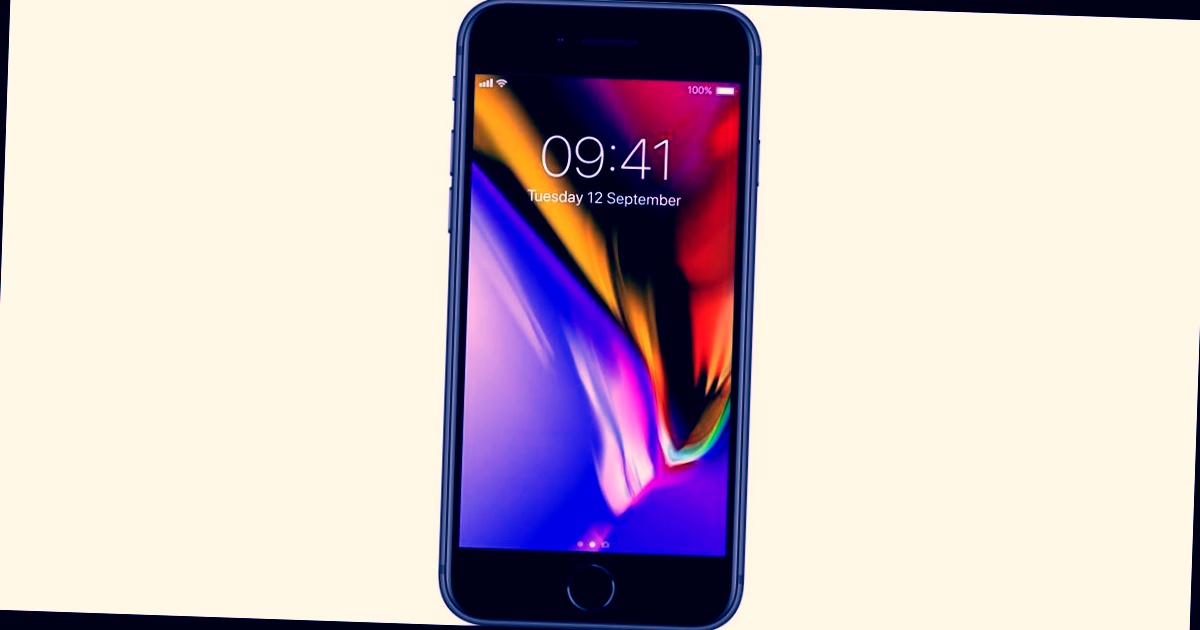iphone: (445, 2, 755, 630)
